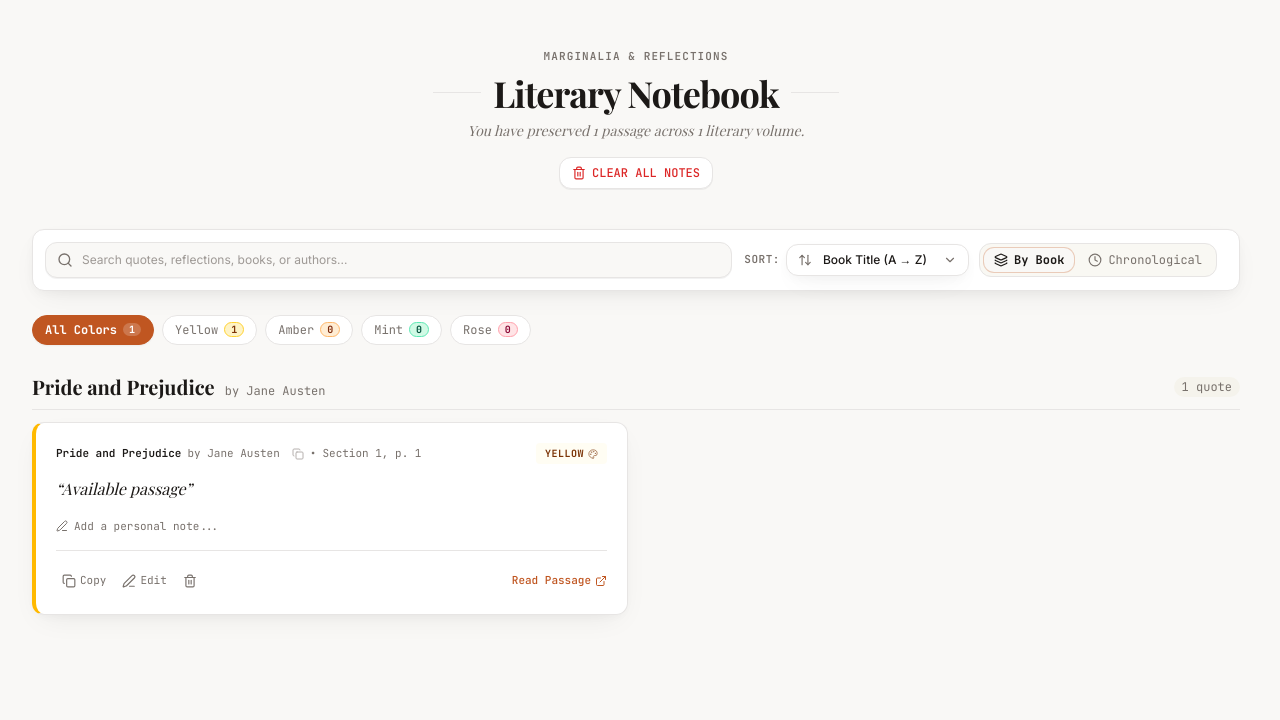
Test: NotebookView component › shows reset filters button when search returns 0 results and resets filters
The width and height of the screenshot is (1280, 720).
In the field with test id "notebook-search-input": (389, 260) top-left (45, 242), bottom-right (732, 278), type "NonExistentTermXYZ"
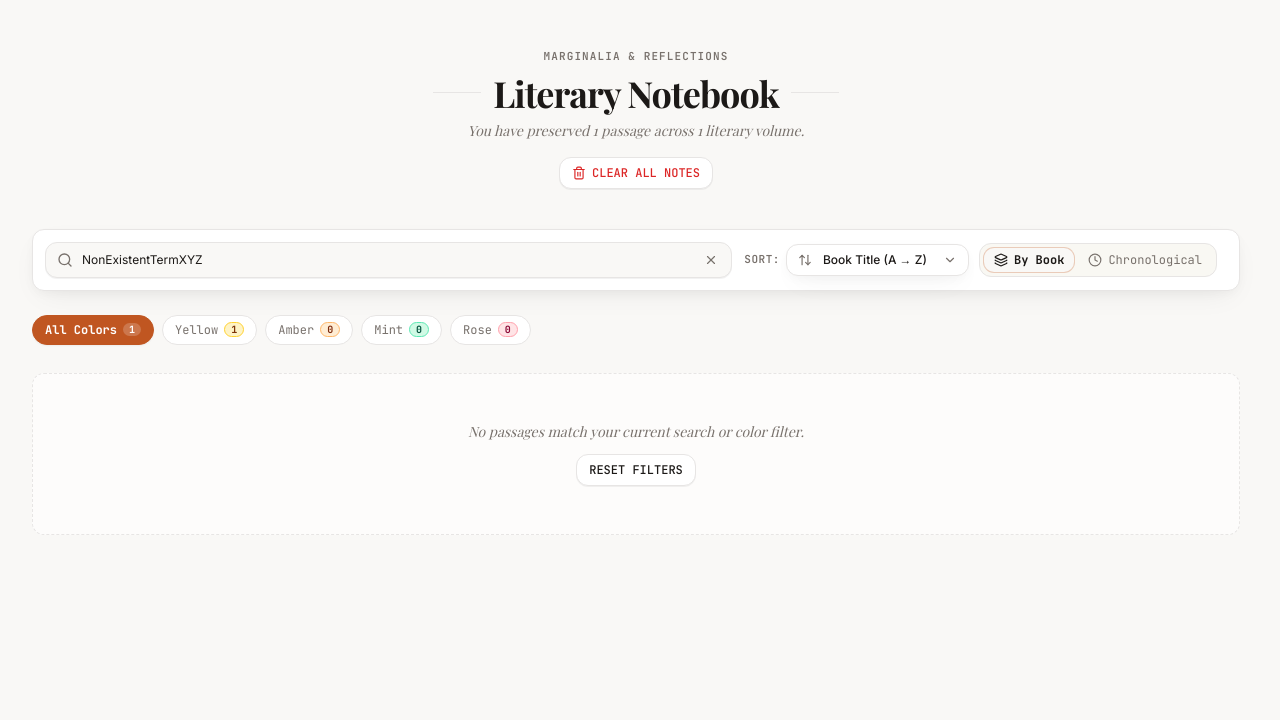
Result: the text "No passages match your current search or color filter." is shown at top-left (468, 422), bottom-right (804, 440)
Click the button "Reset Filters": (636, 470) top-left (576, 454), bottom-right (696, 486)
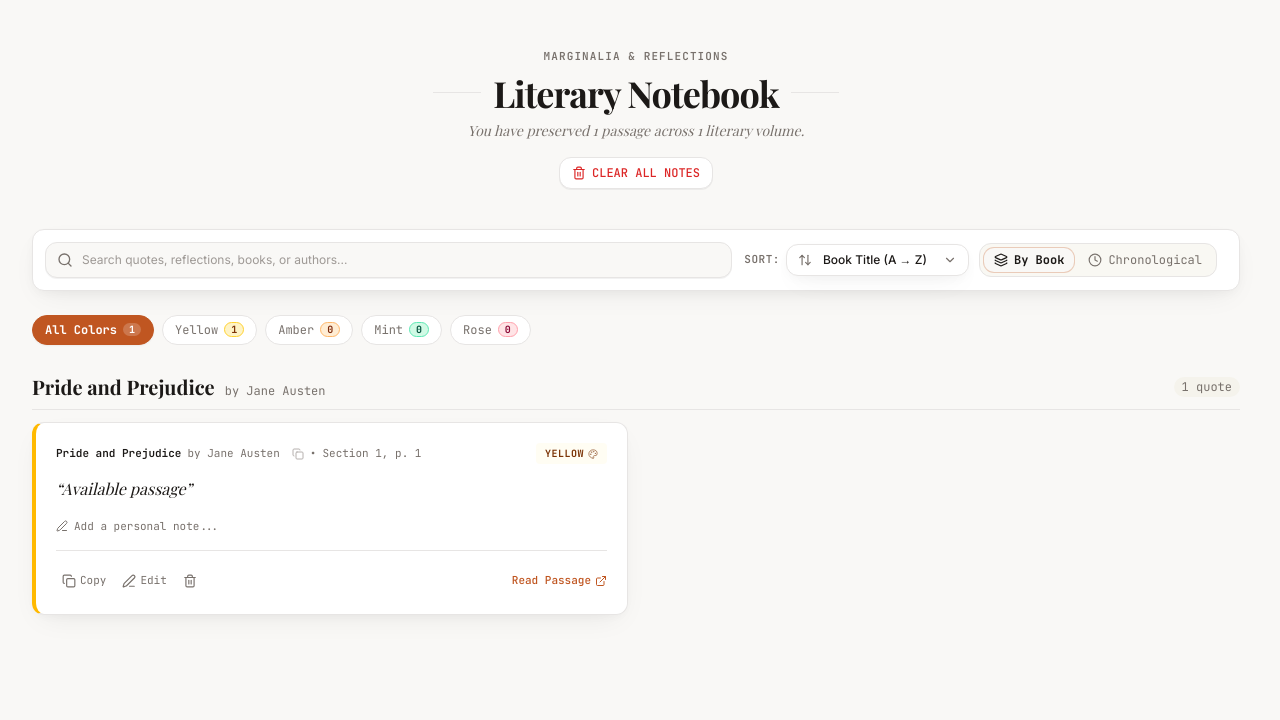
Result: the text "“Available passage”" is shown at top-left (56, 478), bottom-right (192, 498)
